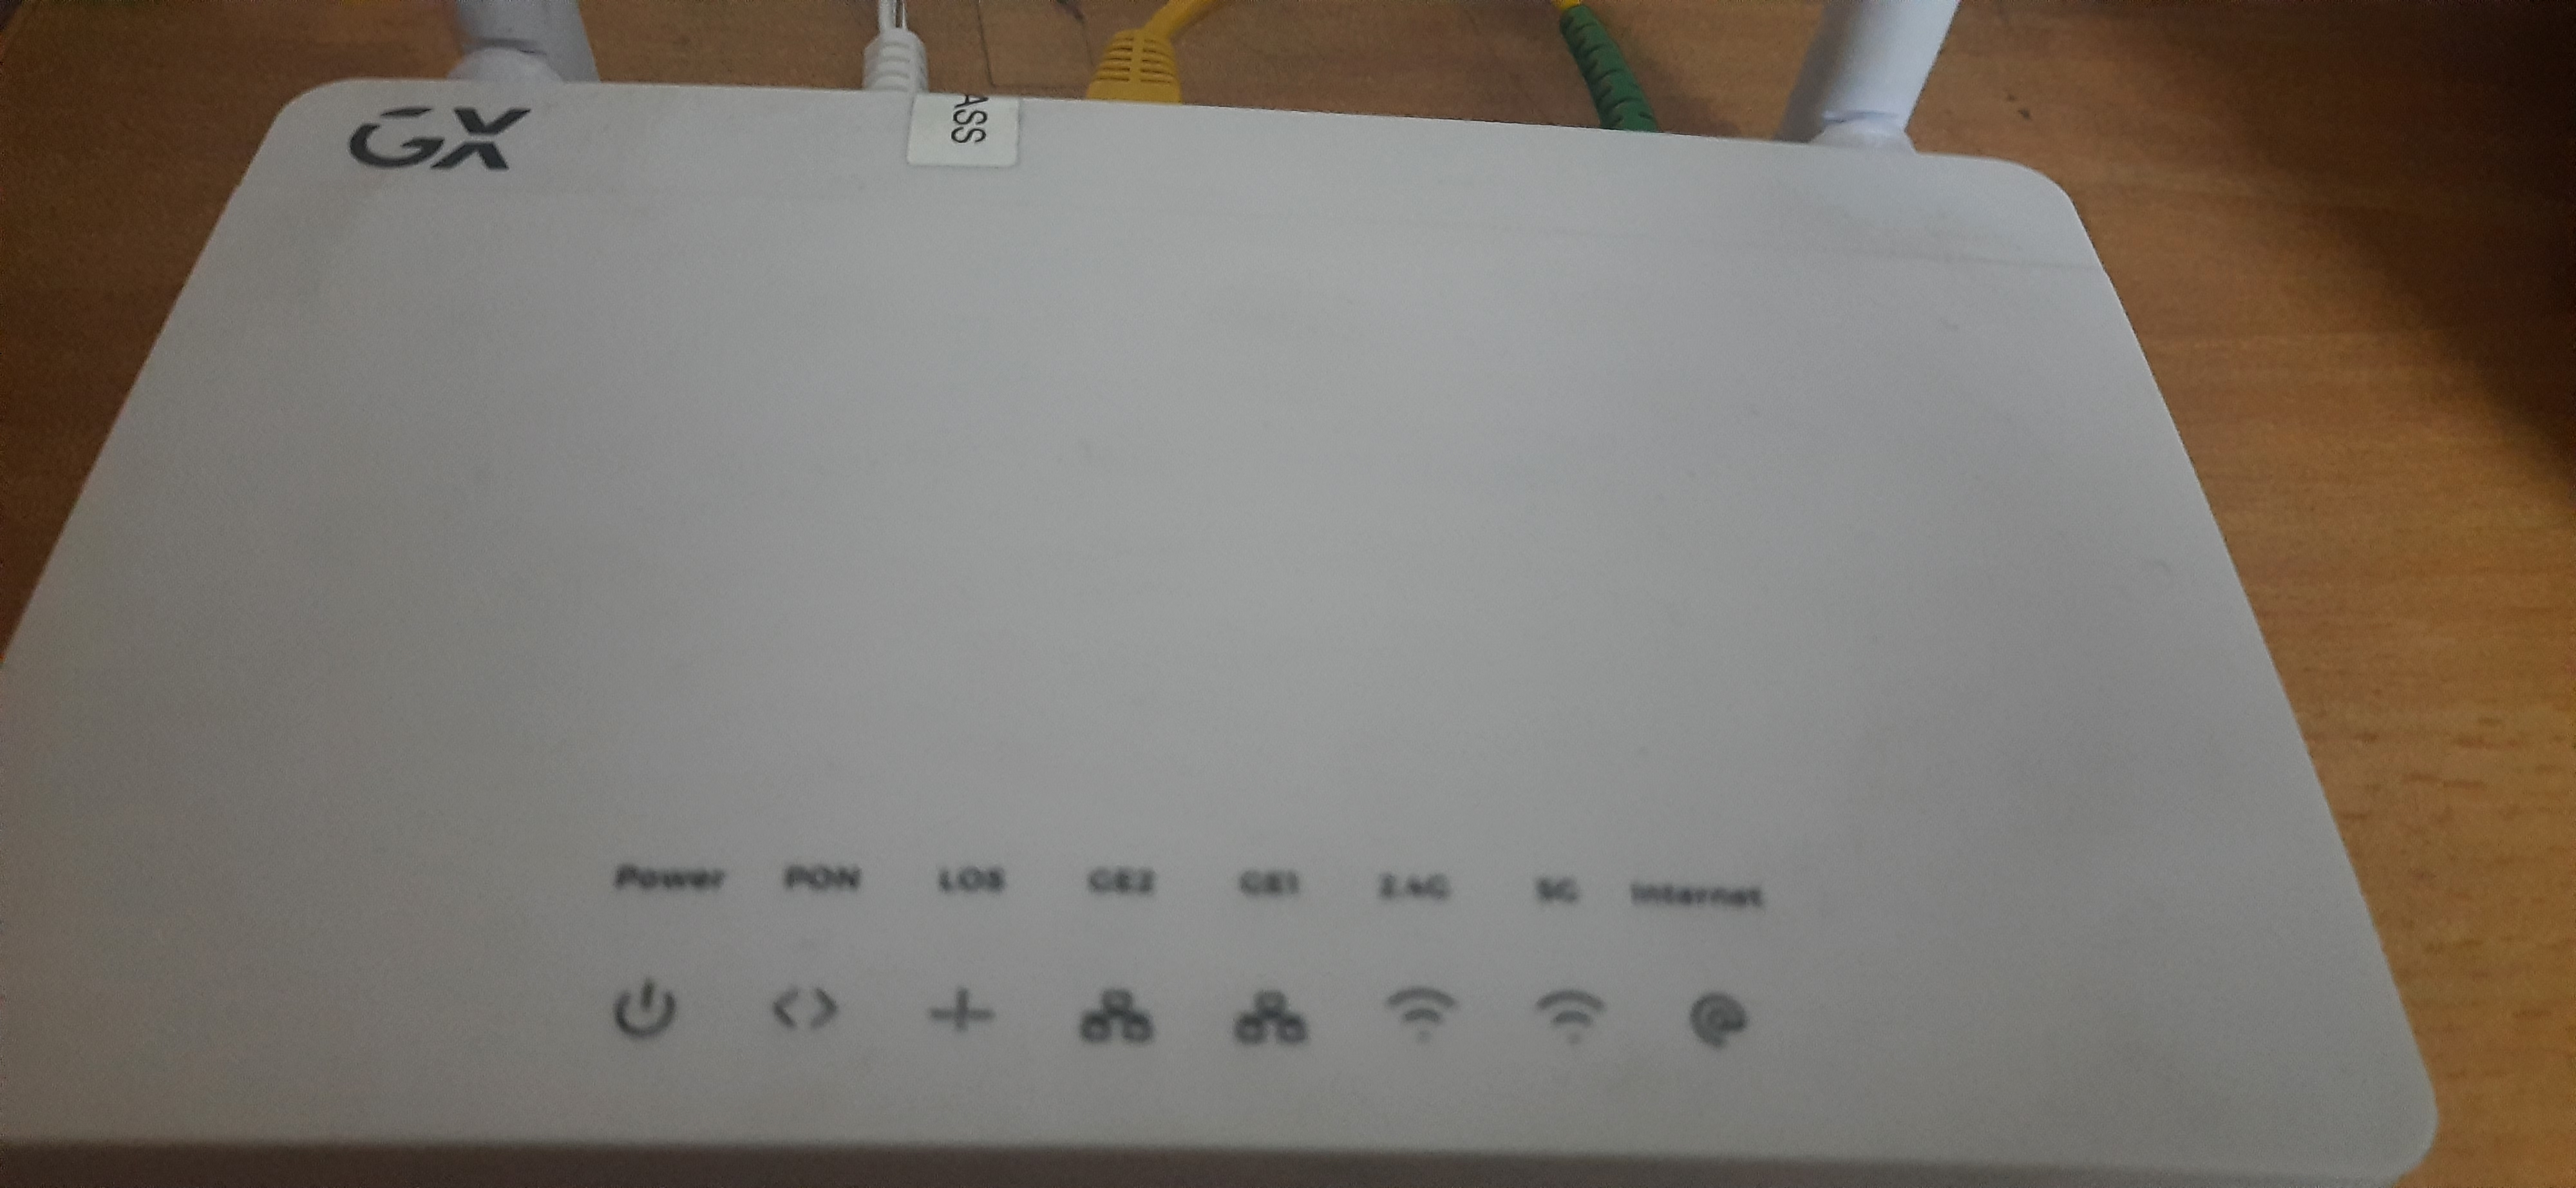WhiteWireIssue: (517, 813, 1924, 1088)
